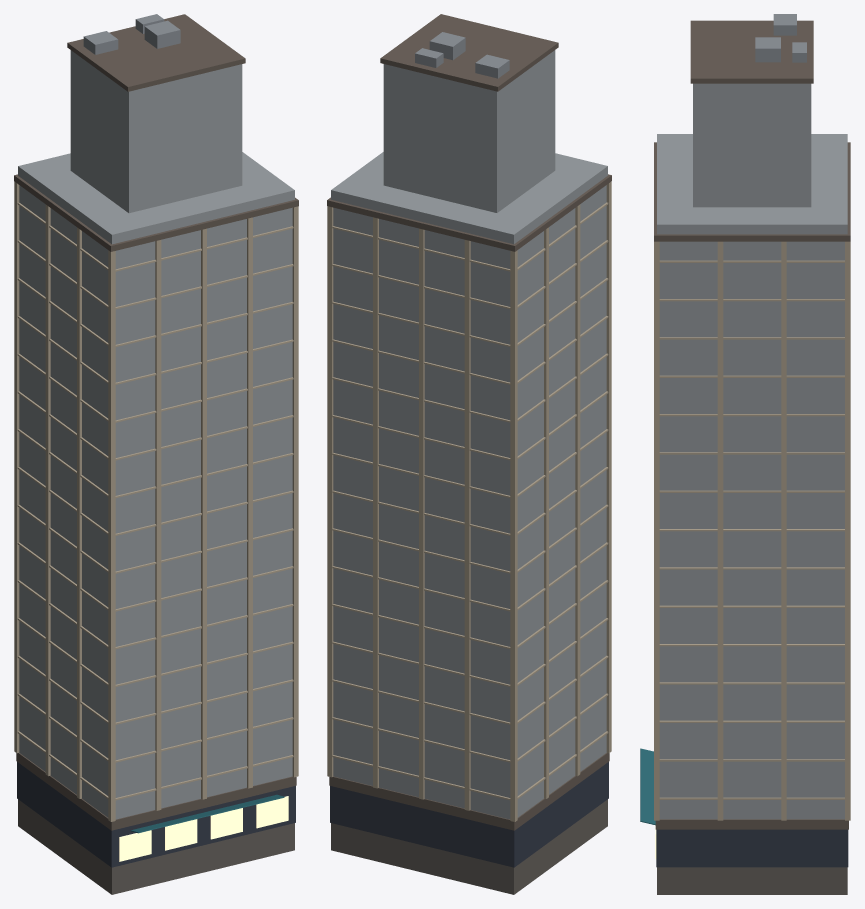
Rendered from building_4.glb.
3 renders of one model, left to right at view 1: azimuth 30°, elevation 25°; view 2: azimuth 150°, elevation 25°; view 3: azimuth 270°, elevation 25°, orthographic.
Parts seen in each view (by area): view 1: building; view 2: building; view 3: building.
Part boxes in pixels (x1,y1,x2,y2): building: (14,14,298,894); building: (327,14,611,894); building: (640,14,850,894).
Size of the model in its own units: 18.5 by 75.3 by 17.64.
